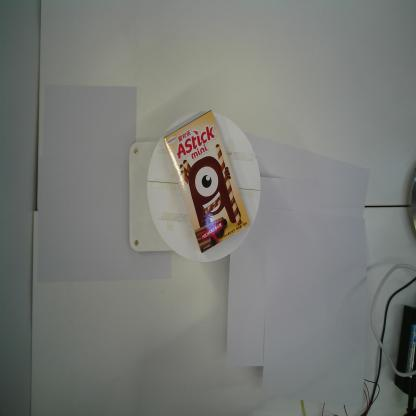Dessert: (163, 108, 251, 254)
